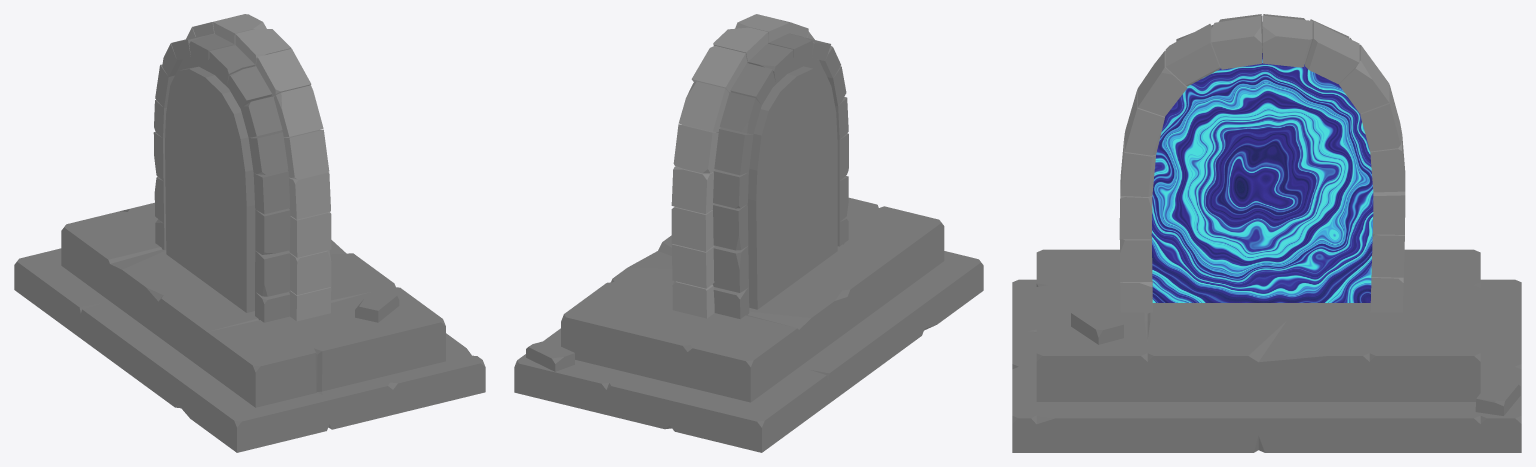
The model's file is Portal.glb.
3 renders of one model, left to right at view 1: azimuth 30°, elevation 25°; view 2: azimuth 150°, elevation 25°; view 3: azimuth 270°, elevation 25°, orthographic. The views are drawn at different scales.
Visible parts, largest first — view 1: PortalStairs_5, PortalGateBack_8, PortalGate_6, Cube.002_20; view 2: PortalStairs_5, PortalGateBack_8, PortalGate_6, Cube.004_22; view 3: PortalStairs_5, Portal_7, PortalGate_6, Cube.002_20, Cube.004_22.
Boxes of the visible parts, x1=… form: PortalStairs_5: x1=14, y1=202, x2=485, y2=452; PortalGateBack_8: x1=153, y1=33, x2=290, y2=322; PortalGate_6: x1=186, y1=14, x2=331, y2=321; Cube.002_20: x1=355, y1=289, x2=399, y2=322; PortalStairs_5: x1=514, y1=197, x2=983, y2=452; PortalGateBack_8: x1=712, y1=33, x2=848, y2=319; PortalGate_6: x1=671, y1=14, x2=814, y2=318; Cube.004_22: x1=526, y1=340, x2=574, y2=371; PortalStairs_5: x1=1012, y1=249, x2=1521, y2=452; Portal_7: x1=1151, y1=53, x2=1373, y2=302; PortalGate_6: x1=1119, y1=15, x2=1405, y2=313; Cube.002_20: x1=1071, y1=307, x2=1123, y2=344; Cube.004_22: x1=1475, y1=378, x2=1520, y2=415.
Bounding box in the file's own units: 1.29 × 1.55 × 2.
2 materials, 2 textured.
